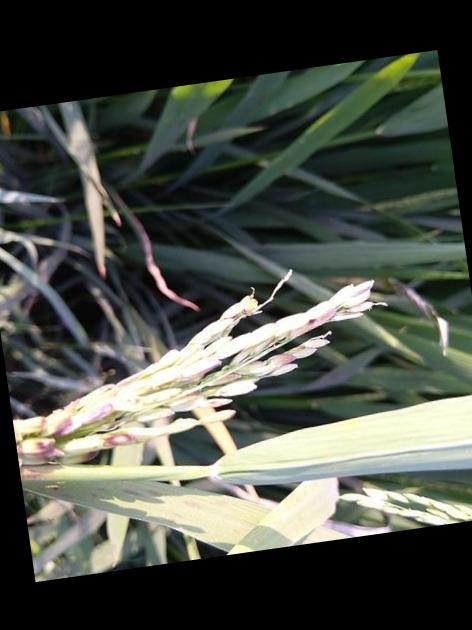Panicle Blight: (230, 279, 373, 363), (12, 407, 149, 466), (166, 354, 232, 385), (201, 373, 239, 388)
